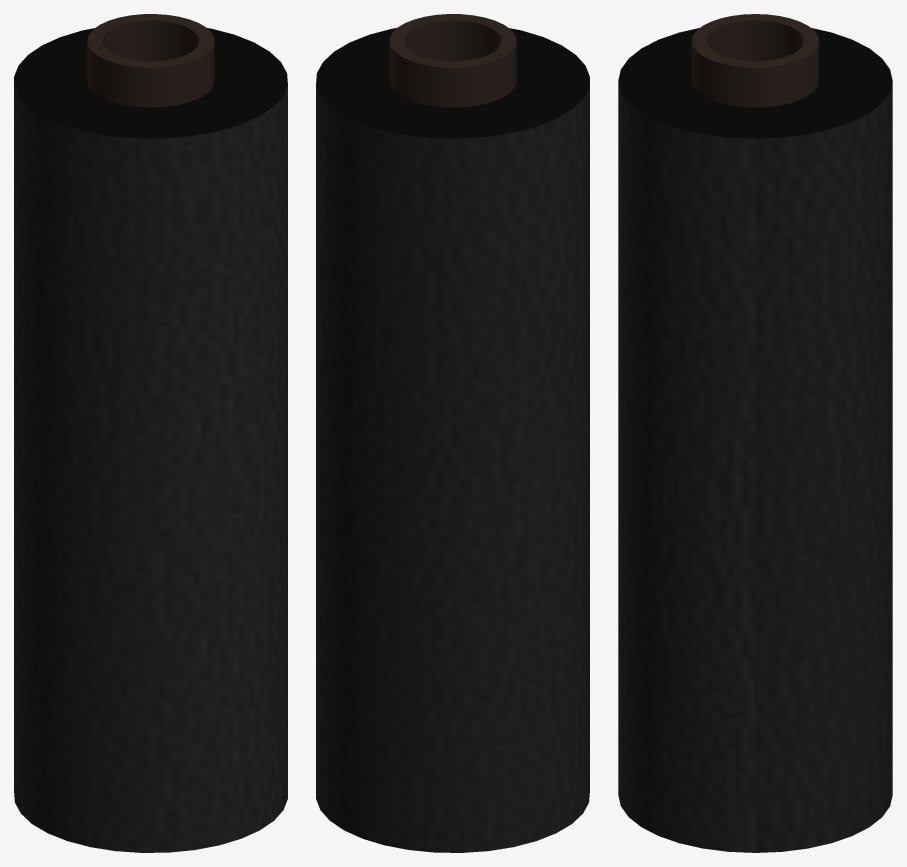
File: F_BlackSkin_02.fbx
3 views of the same model, side by side, from view 1: azimuth 30°, elevation 25°; view 2: azimuth 150°, elevation 25°; view 3: azimuth 270°, elevation 25° (orthographic).
Visible parts, largest first — view 1: F_BlackSkin_02; view 2: F_BlackSkin_02; view 3: F_BlackSkin_02.
Part boxes in pixels (x1,y1,x2,y2): F_BlackSkin_02: (14, 14, 287, 852); F_BlackSkin_02: (316, 14, 589, 852); F_BlackSkin_02: (618, 14, 892, 852).
Size of the model in its own units: 27.32 by 82.8 by 27.32.
Materials: 1 (1 with a texture image).
